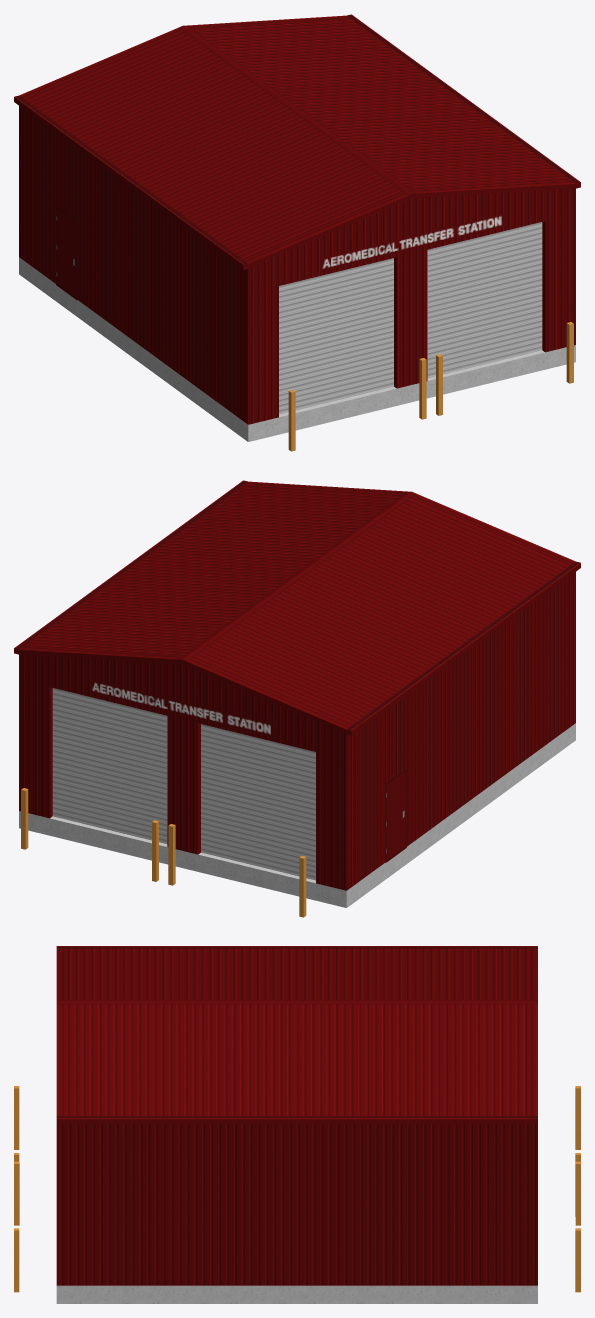
Rendered from medical-trans-station10x12-cbj_LOD00.gltf.
The picture shows the model from 3 angles, top to bottom: view 1: azimuth 30°, elevation 25°; view 2: azimuth 150°, elevation 25°; view 3: azimuth 270°, elevation 25°; orthographic projection. The views are drawn at different scales.
Parts seen in each view (by area): view 1: Cube00; view 2: Cube00; view 3: Cube00.
Part boxes in pixels (bbox=[...]): Cube00: bbox=[14, 14, 580, 451]; Cube00: bbox=[14, 480, 580, 917]; Cube00: bbox=[14, 946, 580, 1303].
Bounding box in the file's own units: 10.2 × 6.03 × 14.14.
